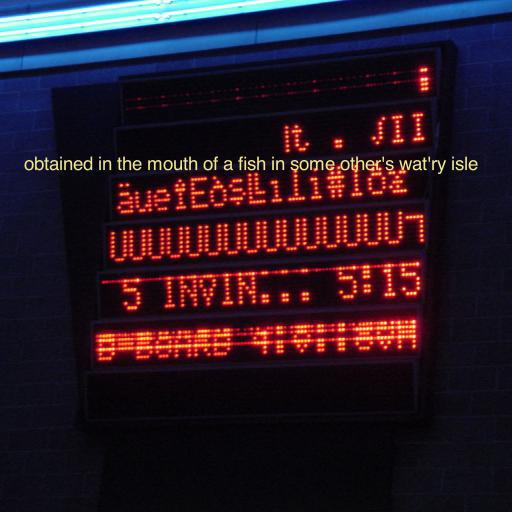SF Pro: (24, 156, 478, 175)
